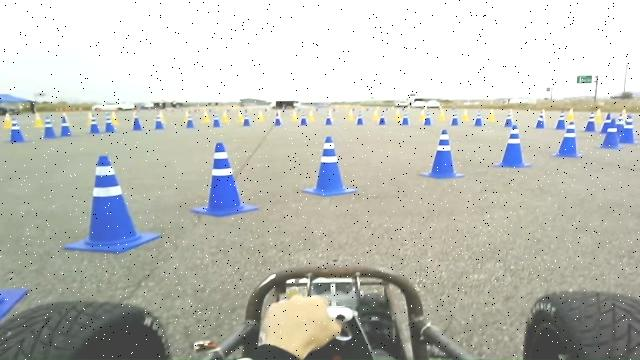blue cone: (63, 154, 161, 254), (190, 142, 258, 216), (302, 136, 357, 197), (419, 128, 465, 178), (491, 124, 532, 168), (551, 121, 583, 158), (596, 127, 622, 149), (619, 114, 637, 144), (8, 118, 26, 142), (42, 116, 57, 139), (60, 114, 72, 136), (534, 108, 546, 129), (584, 112, 596, 132), (88, 115, 100, 134), (502, 108, 514, 127), (554, 110, 565, 130), (104, 114, 116, 132), (473, 112, 483, 126), (132, 117, 142, 130), (211, 114, 221, 127), (273, 112, 282, 126), (400, 114, 410, 126), (450, 113, 459, 126), (324, 111, 332, 125), (423, 114, 432, 126), (185, 118, 195, 128), (154, 120, 164, 130), (355, 114, 364, 125), (378, 114, 386, 125), (299, 116, 307, 126)
